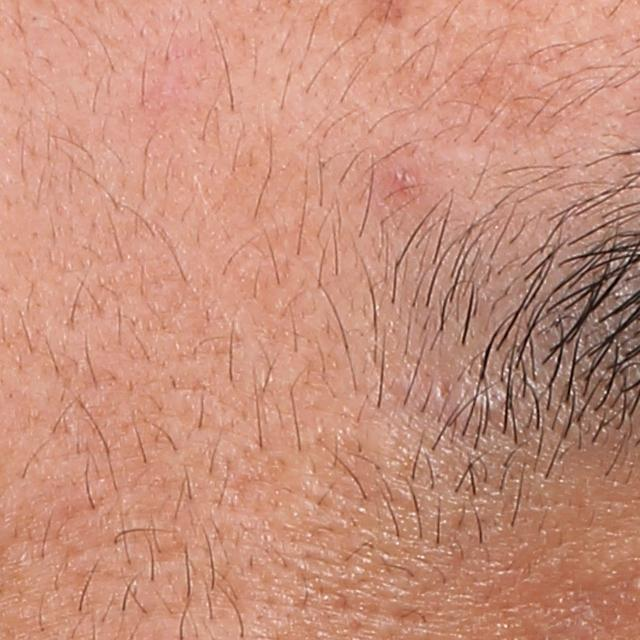papule: (382, 163, 426, 202)
